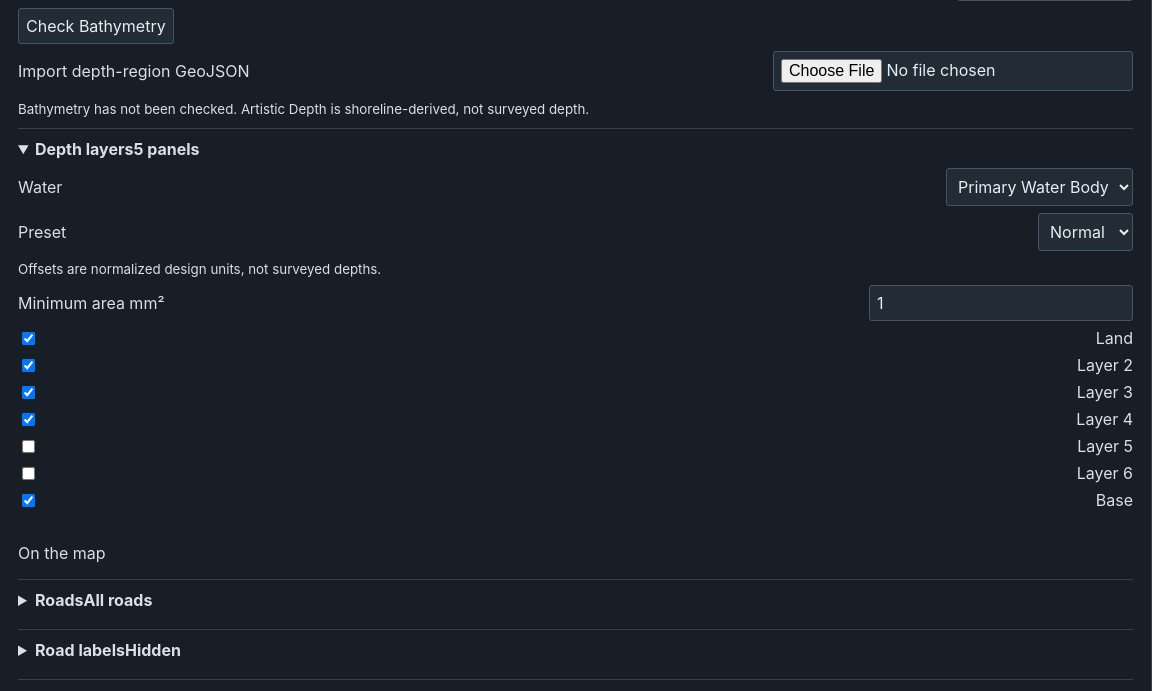
Test case: Controls: depth layers and roads › toggles the Land depth panel off and updates the panel count in the section summary
(page scrolled)
Expected: the text "5 panels" is shown, [134, 139, 200, 159]
Click the checkbox labelled "Land" at {"x": 28, "y": 338}, box [22, 332, 35, 344]
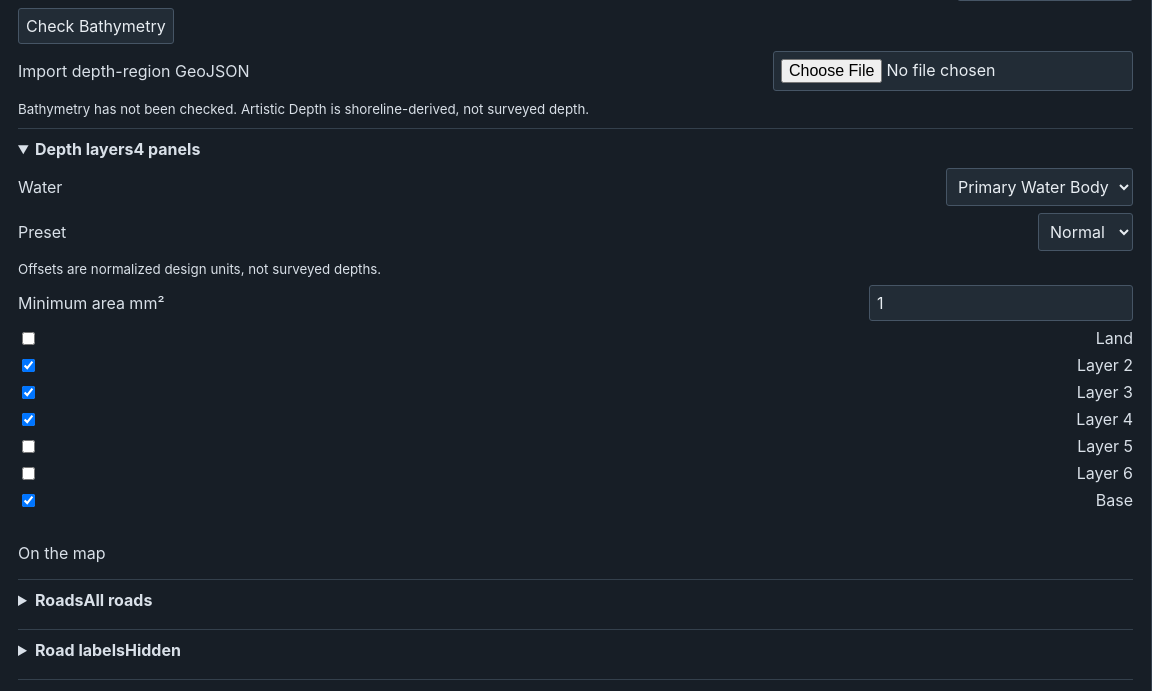
Now the text "4 panels" is shown, box [134, 139, 200, 159]
